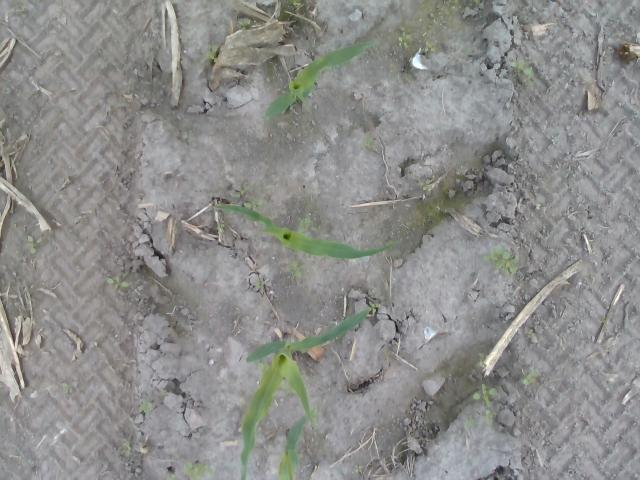Maize: (238, 307, 373, 480), (214, 203, 400, 260), (264, 39, 382, 120), (276, 410, 321, 480)
Weeds: (482, 248, 520, 276), (464, 410, 495, 434), (473, 384, 498, 410), (182, 463, 215, 480), (232, 188, 262, 204), (510, 60, 532, 80), (299, 214, 319, 234), (109, 273, 129, 291), (521, 370, 541, 388), (286, 261, 306, 278), (25, 236, 40, 256), (202, 47, 218, 64), (123, 436, 133, 460), (363, 136, 378, 150), (399, 34, 412, 50), (139, 400, 151, 416), (62, 382, 78, 391), (369, 301, 382, 312), (422, 182, 436, 192), (425, 40, 435, 53), (237, 18, 251, 27), (353, 464, 366, 473), (295, 0, 304, 10), (480, 355, 486, 369), (162, 390, 170, 394)
